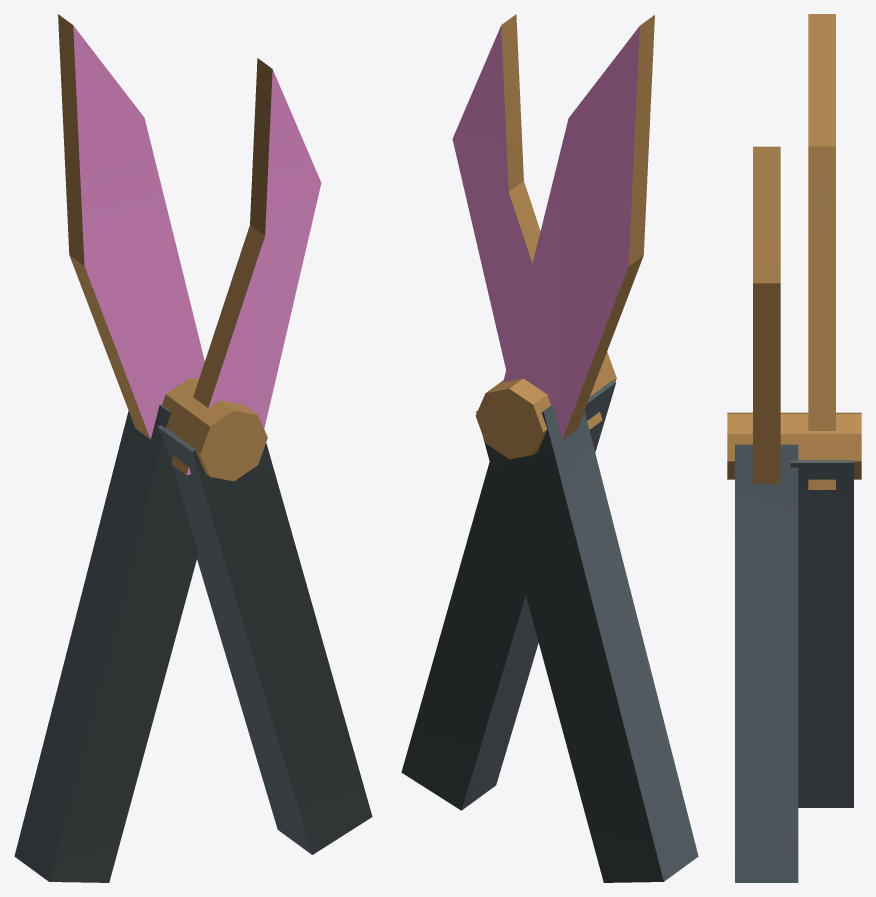
Rendered from clipper.obj.
3 views of the same model, side by side, from view 1: azimuth 30°, elevation 25°; view 2: azimuth 150°, elevation 25°; view 3: azimuth 270°, elevation 25° (orthographic). The views are drawn at different scales.
Parts seen in each view (by area): view 1: two_connected_pruning_snip_halves; view 2: two_connected_pruning_snip_halves; view 3: two_connected_pruning_snip_halves.
Part boxes in pixels (x1,y1,x2,y2): two_connected_pruning_snip_halves: [14, 14, 372, 882]; two_connected_pruning_snip_halves: [401, 14, 698, 882]; two_connected_pruning_snip_halves: [727, 14, 861, 882].
Bounding box in the file's own units: 0.2437 × 0.6813 × 0.1063.
